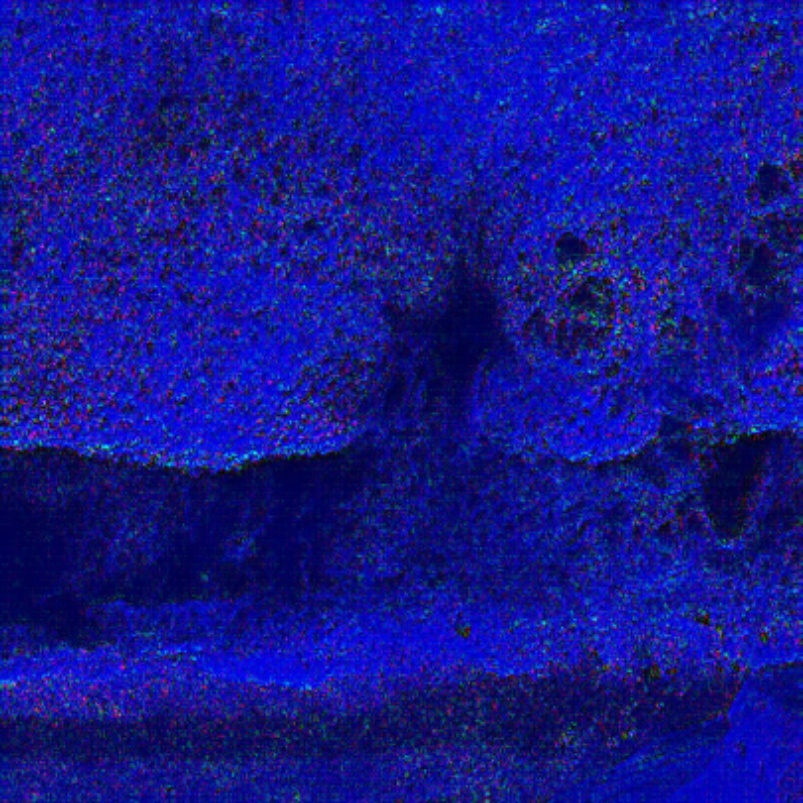rip_current: (266, 181, 570, 569)
